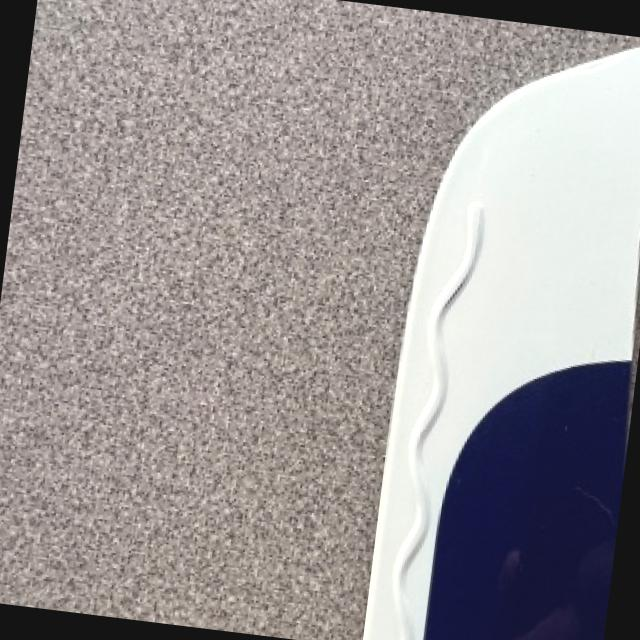healthy: (365, 45, 640, 640)
